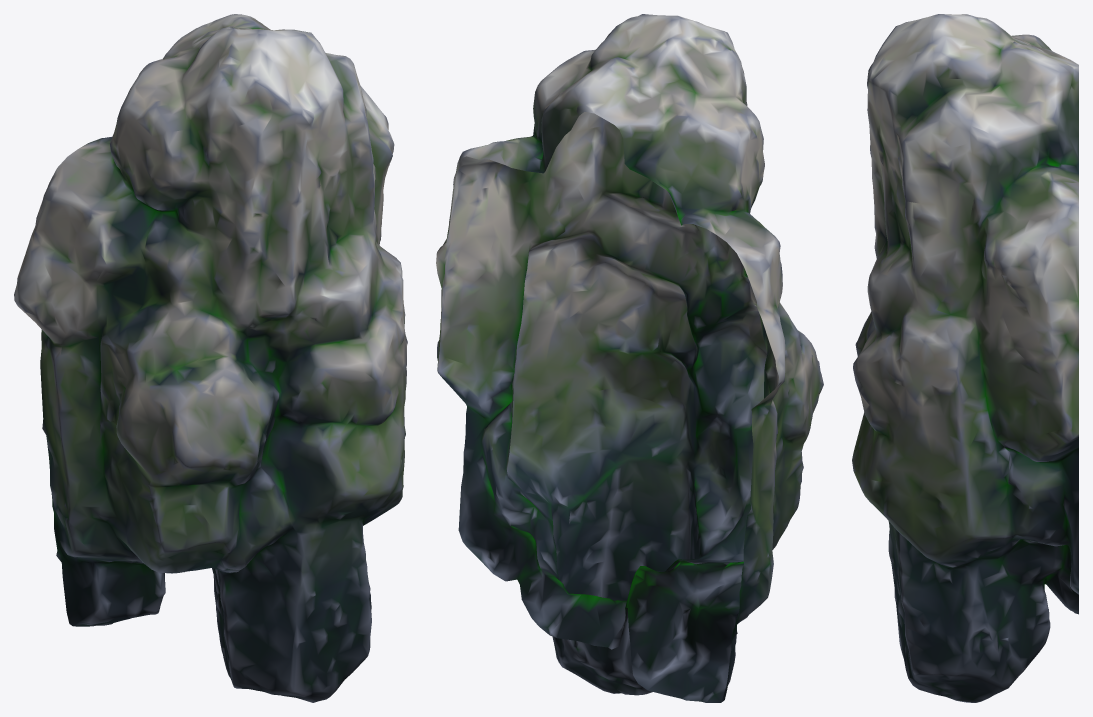
File: M_Cliff_Rock_T1.fbx
3 renders of one model, left to right at view 1: azimuth 30°, elevation 25°; view 2: azimuth 150°, elevation 25°; view 3: azimuth 270°, elevation 25°, orthographic. The views are drawn at different scales.
Visible parts, largest first — view 1: M_Cliff_Rock_T1; view 2: M_Cliff_Rock_T1; view 3: M_Cliff_Rock_T1.
Boxes of the visible parts, x1,y1,x2,y2 form: M_Cliff_Rock_T1: (14, 14, 407, 702); M_Cliff_Rock_T1: (436, 14, 823, 702); M_Cliff_Rock_T1: (852, 14, 1078, 702).
Bounding box in the file's own units: 12.36 × 22.81 × 7.07.
